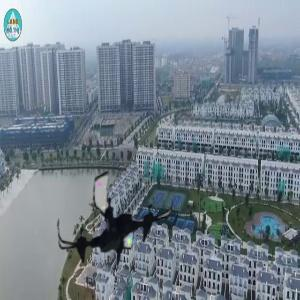drone: (58, 167, 173, 282)
